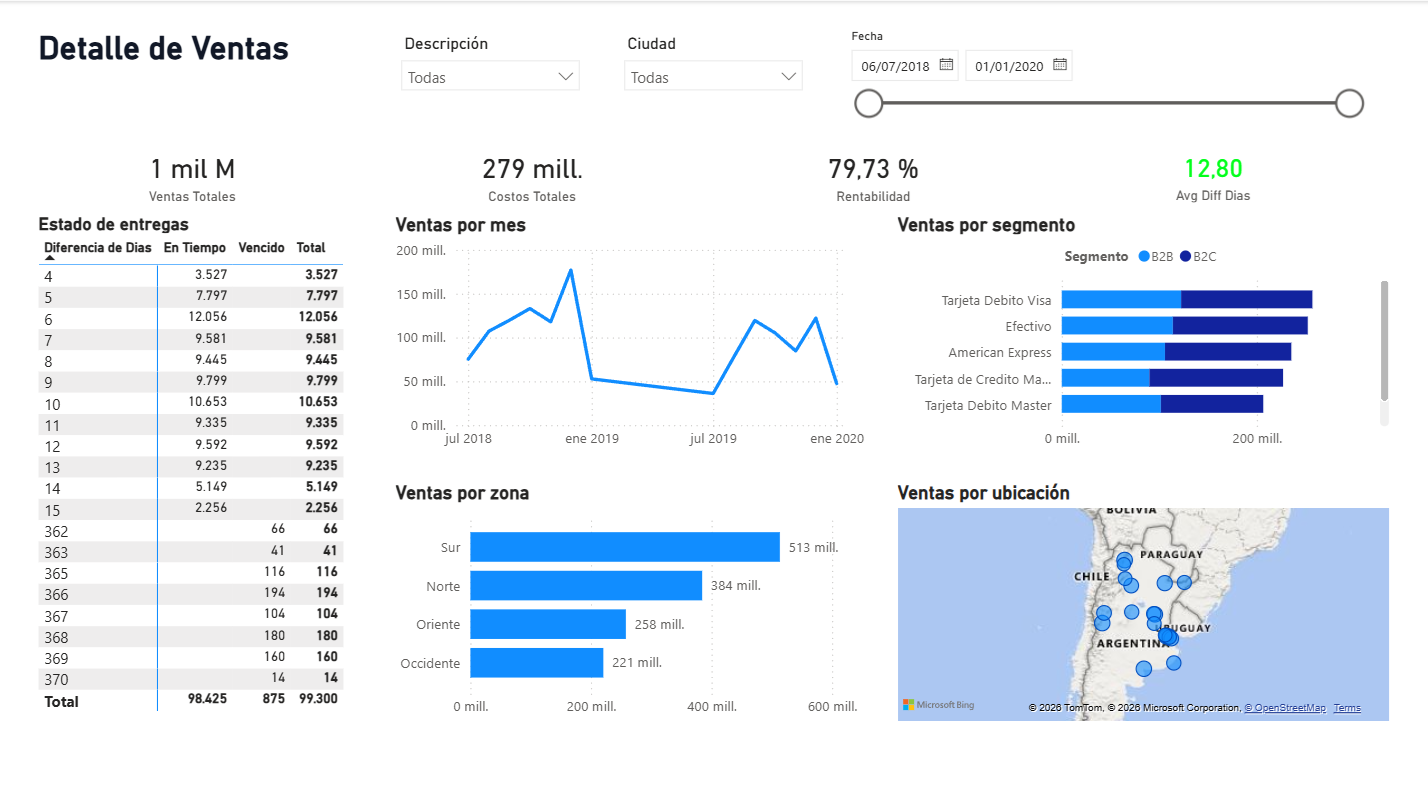

What the dashboard file says about the page in this screenshot:
{"tool":"powerbi","page":{"name":"Detalle de Ventas","canvas":[1280,720],"ordinal":1},"visuals":[{"type":"pivotTable","title":"Estado de entregas","fields":{"Values":["Medidas.Cant Unidades Vendidas"],"Rows":["Ventas.Diferencia de Dias"],"Columns":["Ventas.Categoria"]},"box":[30,190,300,489.9],"z":0},{"type":"card","fields":{"Values":["Medidas.Ventas Totales"]},"box":[30,125,285,60],"z":1000},{"type":"card","fields":{"Values":["Medidas.Costos Totales"]},"box":[335,125,285,60],"z":2000},{"type":"card","fields":{"Values":["Medidas.Rentabilidad"]},"box":[640,125,285,60],"z":3000},{"type":"card","fields":{"Values":["Medidas.Avg Diff Dias"]},"box":[945,125,285,60],"z":4000},{"type":"lineChart","title":"Ventas por mes","fields":{"Y":["Medidas.Ventas Totales"],"Category":["Calendario.Fecha.Variación.Jerarquía de fechas.Año","Calendario.Fecha.Variación.Jerarquía de fechas.Mes"]},"box":[350,190,430,220],"z":5000},{"type":"barChart","title":"Ventas por zona ","fields":{"Category":["Vendedor.Zona"],"Y":["Medidas.Ventas Totales"]},"box":[350,430,430,220],"z":6000},{"type":"barChart","title":"Ventas por segmento","fields":{"Y":["Medidas.Ventas Totales"],"Category":["Metodos de Pago.Descripción"],"Series":["Vendedor.Segmento"]},"box":[800,190,450,220],"z":7000},{"type":"slicer","fields":{"Values":["Calendario.Fecha"]},"box":[750,20,480,90.4],"z":8000},{"type":"slicer","fields":{"Values":["Territorio.Ciudad"]},"box":[550,25,180,60],"z":9000},{"type":"slicer","fields":{"Values":["Metodos de Pago.Descripción"]},"box":[350,25,180,60],"z":10000},{"type":"map","title":"Ventas por ubicación","fields":{"Size":["Medidas.Ventas Totales"],"Y":["Territorio.Latitud"],"X":["Territorio.Longitud"]},"box":[800,430,450,220],"z":11000},{"type":"textbox","box":[30.4,20,300,44.8],"z":12000}]}

Visuals, with their boxes in screenshot pixels (x1, y1, x2, y2), scaled from the page's 1280x720 canvas onto the 1428x804 screenshot:
"Estado de entregas" pivotTable: (33,212,368,759)
card - Medidas.Ventas Totales: (33,140,351,207)
card - Medidas.Costos Totales: (374,140,692,207)
card - Medidas.Rentabilidad: (714,140,1032,207)
card - Medidas.Avg Diff Dias: (1054,140,1372,207)
"Ventas por mes" lineChart: (390,212,870,458)
"Ventas por zona " barChart: (390,480,870,726)
"Ventas por segmento" barChart: (893,212,1395,458)
slicer - Calendario.Fecha: (837,22,1372,123)
slicer - Territorio.Ciudad: (614,28,814,95)
slicer - Metodos de Pago.Descripción: (390,28,591,95)
"Ventas por ubicación" map: (893,480,1395,726)
textbox: (34,22,369,72)
